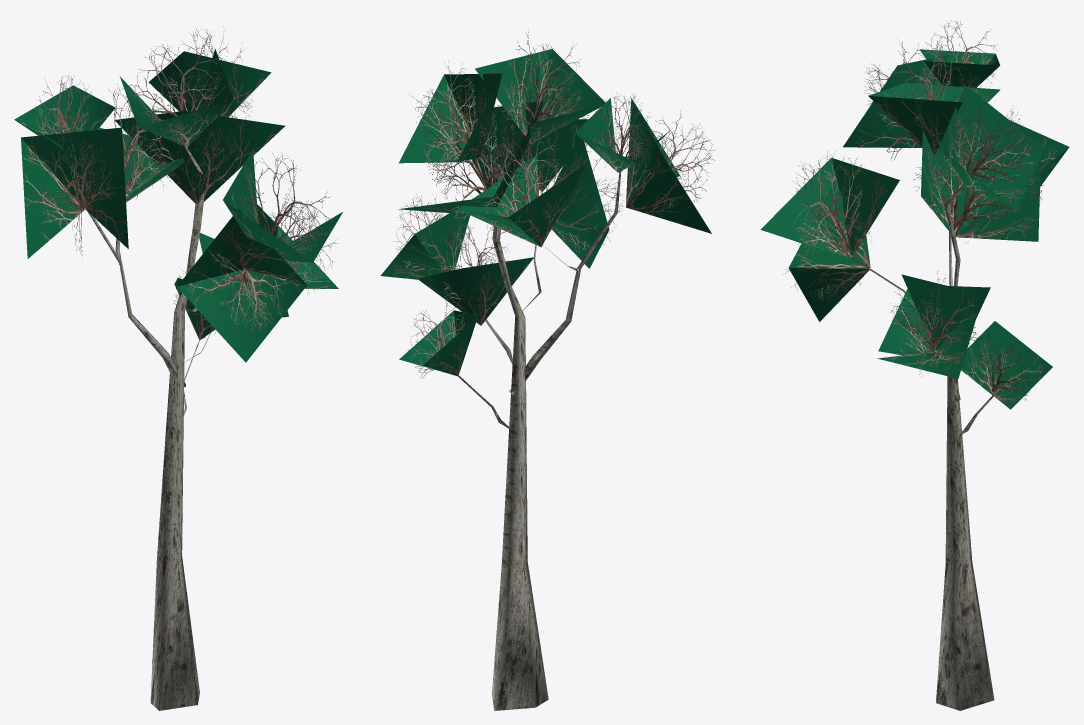
The model's file is decd_whitebirchtreebranches_a1_l1.fbx.
The picture shows the model from 3 angles, left to right: view 1: azimuth 30°, elevation 25°; view 2: azimuth 150°, elevation 25°; view 3: azimuth 270°, elevation 25°; orthographic projection. The views are drawn at different scales.
Visible parts, largest first — view 1: mesh_node; view 2: mesh_node; view 3: mesh_node.
Part boxes in pixels (box(x1,y1,x2,y2)): mesh_node: box(14, 27, 342, 710); mesh_node: box(380, 30, 715, 710); mesh_node: box(760, 20, 1069, 710).
Size of the model in its own units: 8.35 by 16.17 by 6.88.
